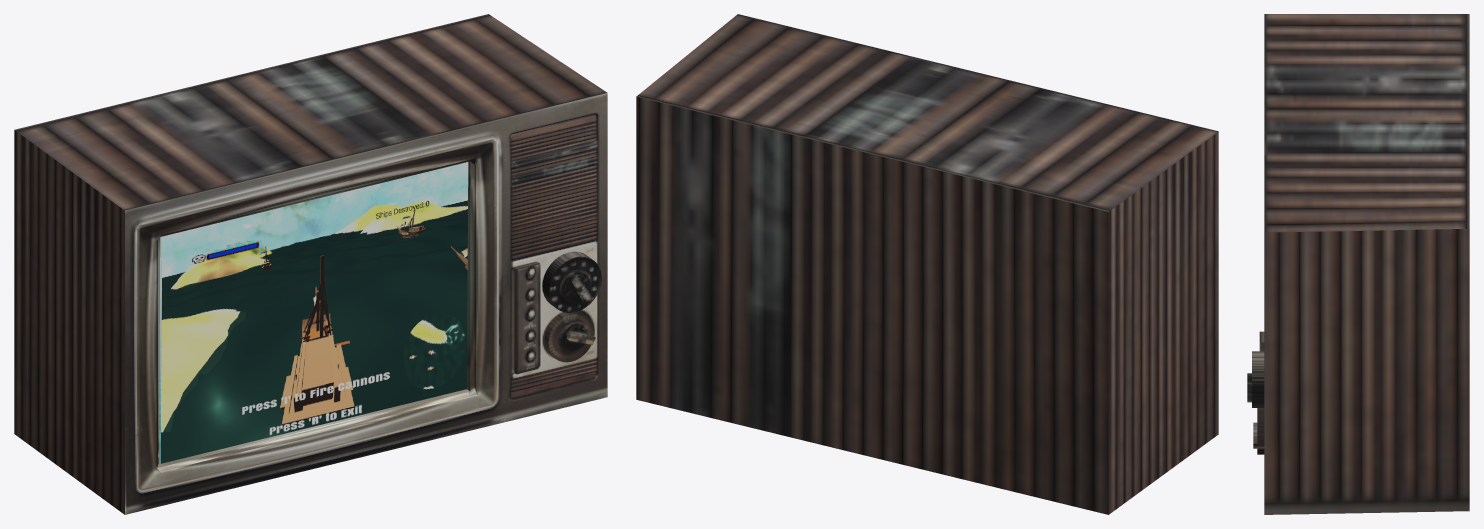
Rendered from t.vrealOBS.gltf.
3 renders of one model, left to right at view 1: azimuth 30°, elevation 25°; view 2: azimuth 150°, elevation 25°; view 3: azimuth 270°, elevation 25°, orthographic. The views are drawn at different scales.
Visible parts, largest first — view 1: Cube, Screen Shot 2021-01-11 at 1.37.28 PM; view 2: Cube; view 3: Cube.
Boxes of the visible parts, x1,y1,x2,y2 form: Cube: [14, 14, 607, 514]; Screen Shot 2021-01-11 at 1.37.28 PM: [159, 162, 468, 464]; Cube: [636, 14, 1218, 514]; Cube: [1247, 14, 1469, 514].
Size of the model in its own units: 92.03 by 55.42 by 39.51.
Materials: 2 (2 with a texture image).
